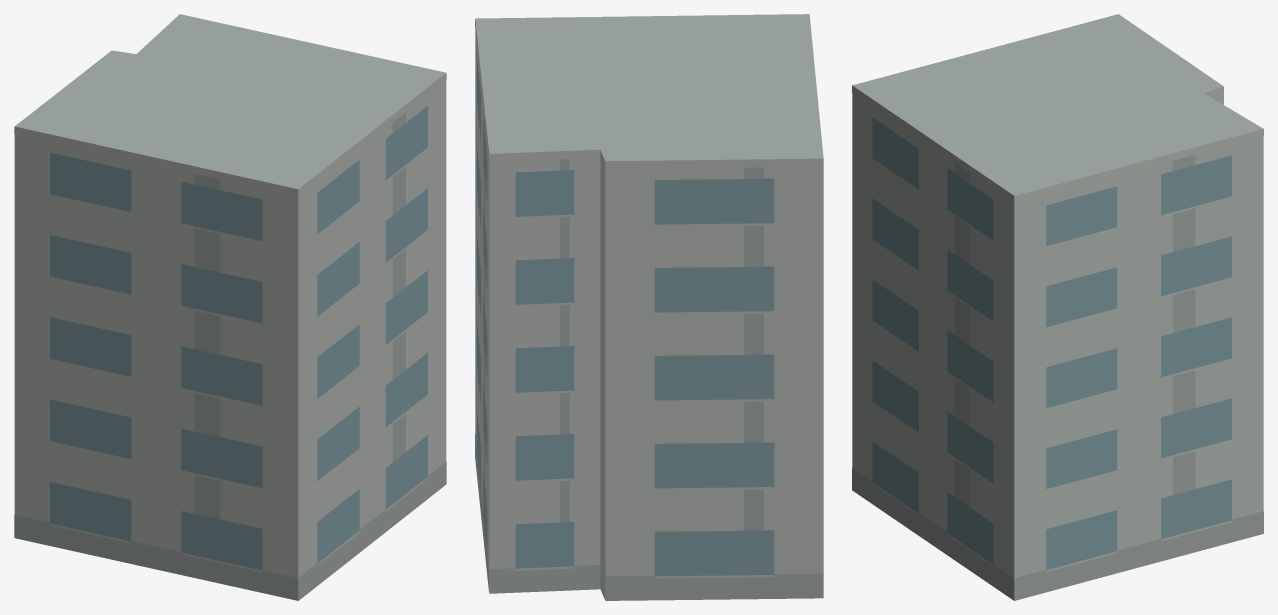
The model's file is survey-upis-32724550.glb.
3 views of the same model, side by side, from view 1: azimuth 30°, elevation 25°; view 2: azimuth 150°, elevation 25°; view 3: azimuth 270°, elevation 25° (orthographic). The views are drawn at different scales.
Parts seen in each view (by area): view 1: survey-upis-32724550.tmp; view 2: survey-upis-32724550.tmp; view 3: survey-upis-32724550.tmp.
Part boxes in pixels (bbox=[...]): survey-upis-32724550.tmp: bbox=[14, 14, 446, 600]; survey-upis-32724550.tmp: bbox=[475, 14, 823, 600]; survey-upis-32724550.tmp: bbox=[852, 14, 1263, 600].
Bounding box in the file's own units: 12.73 × 13.2 × 12.17.
